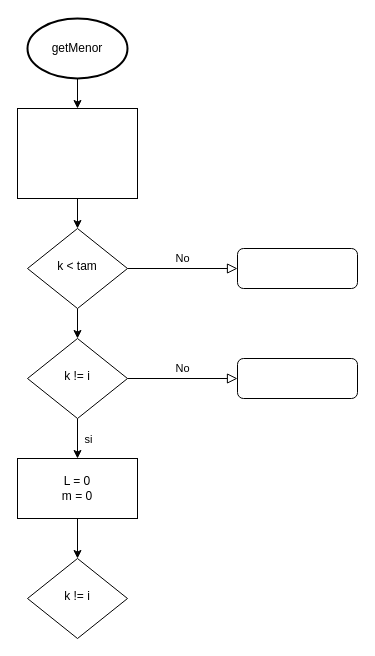
This 375x656 diagram has some shape labels left out. The centre of each missing label's shape, as x and y in pixels:
"mat[][], i, j tam = mat.length menor[tam-1][tam-1] a = 0 k = 0" belongs at point 77,153.
"Plug in lamp" belongs at point 297,268.
"Replace Bulb" belongs at point 297,378.
